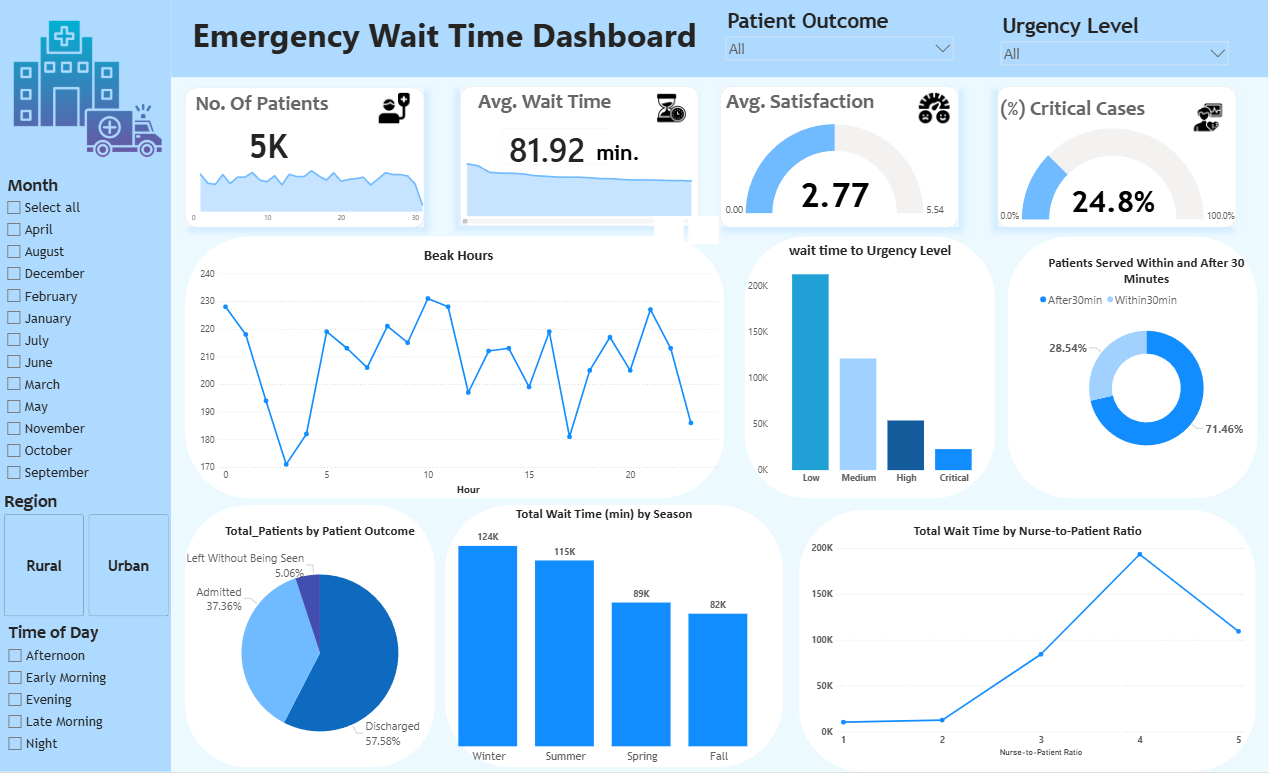

This screenshot's page, from the dashboard's own definition file:
{"tool":"powerbi","page":{"name":"Page 1","canvas":[2300,1400],"ordinal":0},"visuals":[{"type":"shape","box":[0,0,310,1399.5],"z":0},{"type":"shape","box":[309.5,0,1991.1,140],"z":1000},{"type":"textbox","box":[308.4,19.1,996.1,161],"z":2000},{"type":"shape","box":[335.7,158.3,433.9,253.8],"z":3000},{"type":"cardVisual","fields":{"Data":["ER_Wait_time_edited.Total_Patients"]},"box":[357.5,215.6,256.5,101],"z":4000},{"type":"textbox","box":[335.7,158.3,278.4,57.3],"z":5000},{"type":"areaChart","fields":{"Y":["ER_Wait_time_edited.Total_Patients"],"Category":["ER_Wait_time_edited.Visit Date.Variation.Date Hierarchy.Day"]},"box":[335.7,289.3,499.4,122.8],"z":6000},{"type":"shape","box":[834.5,157.2,433,254],"z":7000},{"type":"textbox","box":[834.5,157.2,314.4,58.1],"z":8000},{"type":"cardVisual","fields":{"Data":["ER_Wait_time_edited.Avg_Wait_Time"]},"box":[892.5,215.3,229.8,101.6],"z":9000},{"type":"areaChart","fields":{"Y":["Sum(ER_Wait_time_edited.Total Wait Time (min))"],"Category":["ER_Wait_time_edited.Visit ID"]},"box":[834.5,268.5,433,142.7],"z":10000},{"type":"textbox","box":[1052.2,249.1,137.9,91.9],"z":11000},{"type":"shape","box":[1306.2,157.2,433,256.4],"z":12000},{"type":"shape","box":[1809.3,157.2,433,256.4],"z":13000},{"type":"textbox","box":[1303.7,157.2,292.7,58.1],"z":14000},{"type":"gauge","fields":{"Y":["ER_Wait_time_edited.Avg_Satisfaction"]},"box":[1306.2,215.3,416,186.2],"z":15000},{"type":"textbox","box":[1809.3,166.9,316.9,58.1],"z":16000},{"type":"gauge","fields":{"Y":["ER_Wait_time_edited.Critical_Cases_%"]},"box":[1804.4,217.7,445.1,200.8],"z":17000},{"type":"image","box":[17.2,22.1,282,277.1],"z":18000},{"type":"image","box":[686.9,142.7,55.6,106.4],"z":19000},{"type":"image","box":[1190.1,142.7,55,106.4],"z":20000},{"type":"image","box":[1666.6,142.7,55.6,106.4],"z":21000},{"type":"image","box":[2162.4,128.2,55.6,166.9],"z":22000},{"type":"slicer","fields":{"Values":["ER_Wait_time_edited.Month"]},"box":[0,309.6,210.4,578.1],"z":23000},{"type":"textbox","box":[336,412,434,988],"z":24000},{"type":"slicer","fields":{"Values":["ER_Wait_time_edited.Patient Outcome"]},"box":[1306.2,12.1,433,116.1],"z":25000},{"type":"slicer","fields":{"Values":["ER_Wait_time_edited.Urgency Level"]},"box":[1804.4,19.4,433,106.4],"z":26000},{"type":"advancedSlicerVisual","fields":{"Values":["ER_Wait_time_edited.Region"]},"box":[2.4,887.7,309.6,234.6],"z":27000},{"type":"slicer","fields":{"Values":["ER_Wait_time_edited.Time of Day"]},"box":[2.4,1122.3,295.1,251.6],"z":28000},{"type":"shape","box":[336,429.2,978.6,475.8],"z":29000},{"type":"lineChart","title":"Beak Hours","fields":{"Category":["ER_Wait_time_edited.Hour"],"Y":["ER_Wait_time_edited.Total_Patients"]},"box":[358.1,446.4,946.7,458.6],"z":30000},{"type":"shape","box":[1351.4,429.2,453.7,475.8],"z":31000},{"type":"clusteredColumnChart","title":"wait time to Urgency Level","fields":{"Category":["ER_Wait_time_edited.Urgency Level"],"Y":["Sum(ER_Wait_time_edited.Total Wait Time (min))"]},"box":[1351.4,436.6,453.7,451.3],"z":32000},{"type":"shape","box":[1827.2,429.2,453.7,475.8],"z":33000},{"type":"shape","box":[806.9,914.8,613.1,475.8],"z":34000},{"type":"donutChart","title":"Patients Served Within and After 30 Minutes","fields":{"Y":["ER_Wait_time_edited.Patients_After_30min_%","ER_Wait_time_edited.Patients_Within_30min_%"]},"box":[1878.7,461.1,399.8,392.4],"z":35000},{"type":"clusteredColumnChart","title":"Total Wait Time (min) by Time of Day","fields":{"Category":["ER_Wait_time_edited.Time of Day"],"Y":["Sum(ER_Wait_time_edited.Total Wait Time (min))"]},"box":[770.1,914.8,649.9,475.8],"z":36000},{"type":"shape","box":[336,914.8,453.7,475.8],"z":37000},{"type":"pieChart","fields":{"Category":["ER_Wait_time_edited.Patient Outcome"],"Y":["ER_Wait_time_edited.Total_Patients"]},"box":[323.7,946.7,512.6,443.9],"z":38000},{"type":"shape","box":[1449.5,924.6,829,475.8],"z":39000},{"type":"lineChart","title":"Total Wait Time by Nurse-to-Patient Ratio","fields":{"Y":["Sum(ER_Wait_time_edited.Total Wait Time (min))"],"Category":["ER_Wait_time_edited.Nurse-to-Patient Ratio"]},"box":[1466.6,946.7,794.6,429.2],"z":39001}]}

Visuals, with their boxes in screenshot pixels (x1, y1, x2, y2), scaled from the page's 2300x1400 canvas onto the 1269x773 screenshot:
shape: crop(0, 0, 171, 772)
shape: crop(171, 0, 1268, 77)
textbox: crop(170, 11, 720, 99)
shape: crop(185, 87, 425, 228)
cardVisual - ER_Wait_time_edited.Total_Patients: crop(197, 119, 339, 175)
textbox: crop(185, 87, 339, 119)
areaChart - ER_Wait_time_edited.Total_Patients x ER_Wait_time_edited.Visit Date.Variation.Date Hierarchy.Day: crop(185, 160, 461, 228)
shape: crop(460, 87, 699, 227)
textbox: crop(460, 87, 634, 119)
cardVisual - ER_Wait_time_edited.Avg_Wait_Time: crop(492, 119, 619, 175)
areaChart - Sum(ER_Wait_time_edited.Total Wait Time (min)) x ER_Wait_time_edited.Visit ID: crop(460, 148, 699, 227)
textbox: crop(581, 138, 657, 188)
shape: crop(721, 87, 960, 228)
shape: crop(998, 87, 1237, 228)
textbox: crop(719, 87, 881, 119)
gauge - ER_Wait_time_edited.Avg_Satisfaction: crop(721, 119, 950, 222)
textbox: crop(998, 92, 1173, 124)
gauge - ER_Wait_time_edited.Critical_Cases_%: crop(996, 120, 1241, 231)
image: crop(9, 12, 165, 165)
image: crop(379, 79, 410, 138)
image: crop(657, 79, 687, 138)
image: crop(920, 79, 950, 138)
image: crop(1193, 71, 1224, 163)
slicer - ER_Wait_time_edited.Month: crop(0, 171, 116, 490)
textbox: crop(185, 227, 425, 772)
slicer - ER_Wait_time_edited.Patient Outcome: crop(721, 7, 960, 71)
slicer - ER_Wait_time_edited.Urgency Level: crop(996, 11, 1234, 69)
advancedSlicerVisual - ER_Wait_time_edited.Region: crop(1, 490, 172, 620)
slicer - ER_Wait_time_edited.Time of Day: crop(1, 620, 164, 759)
shape: crop(185, 237, 725, 500)
"Beak Hours" lineChart: crop(198, 246, 720, 500)
shape: crop(746, 237, 996, 500)
"wait time to Urgency Level" clusteredColumnChart: crop(746, 241, 996, 490)
shape: crop(1008, 237, 1258, 500)
shape: crop(445, 505, 783, 768)
"Patients Served Within and After 30 Minutes" donutChart: crop(1037, 255, 1257, 471)
"Total Wait Time (min) by Time of Day" clusteredColumnChart: crop(425, 505, 783, 768)
shape: crop(185, 505, 436, 768)
pieChart - ER_Wait_time_edited.Patient Outcome x ER_Wait_time_edited.Total_Patients: crop(179, 523, 461, 768)
shape: crop(800, 511, 1257, 772)
"Total Wait Time by Nurse-to-Patient Ratio" lineChart: crop(809, 523, 1248, 760)
